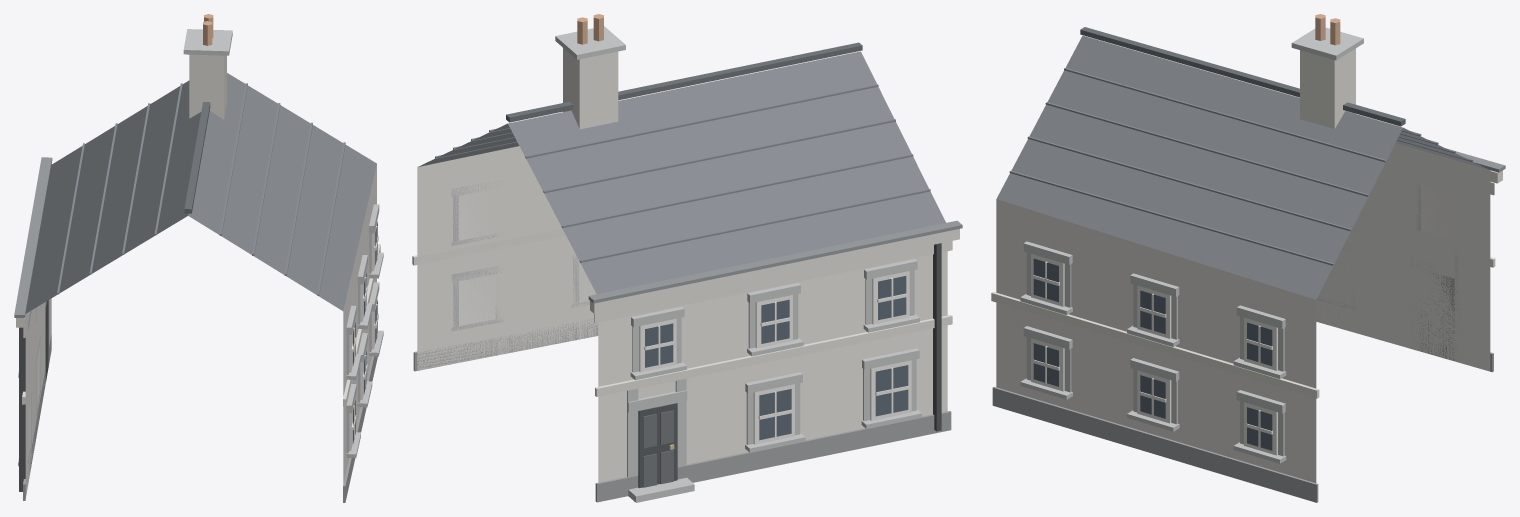
The picture shows the model from 3 angles, left to right: view 1: azimuth 30°, elevation 25°; view 2: azimuth 150°, elevation 25°; view 3: azimuth 270°, elevation 25°; orthographic projection. The views are drawn at different scales.
Visible parts, largest first — view 1: slate, harl, stone_band, slate_lt, chim_render, lead, frame, pipe, plinth, slate_dk, string; view 2: slate, harl, stone_band, string, plinth, frame, slate_lt, chim_render, lead, slate_dk, door_dark_p, pipe (+6 smaller); view 3: harl, slate, stone_band, plinth, frame, slate_lt, chim_render, string, slate_dk, window_glass_009, window_glass_008, window_glass_010 (+4 smaller).
Part boxes in pixels (x1,y1,x2,y2): slate: (25,73,376,313); harl: (25,165,376,498); stone_band: (18,29,383,466); slate_lt: (57,83,345,295); chim_render: (189,54,226,119); lead: (14,157,52,317); frame: (28,221,378,458); pipe: (19,327,25,491); plinth: (23,334,377,502); slate_dk: (184,102,210,213); string: (16,163,380,406); slate: (418,51,945,293); harl: (417,146,947,482); stone_band: (451,26,921,502); string: (412,229,959,396); plinth: (413,319,951,502); frame: (459,192,911,444); slate_lt: (435,84,930,262); chim_render: (563,48,618,129); lead: (588,220,962,303); slate_dk: (506,42,862,122); door_dark_p: (643,410,673,487); pipe: (933,243,941,431); harl: (996,143,1490,482); slate: (996,35,1488,299); stone_band: (1020,27,1462,463); plinth: (992,318,1493,502); frame: (1031,184,1453,455); slate_lt: (1009,68,1473,265); chim_render: (1300,48,1355,128); string: (991,148,1502,398); slate_dk: (1080,27,1405,126); window_glass_009: (1140,290,1165,334); window_glass_008: (1140,375,1165,418); window_glass_010: (1247,407,1272,450).
Bounding box in the file's own units: 12.22 × 9.84 × 11.57.
